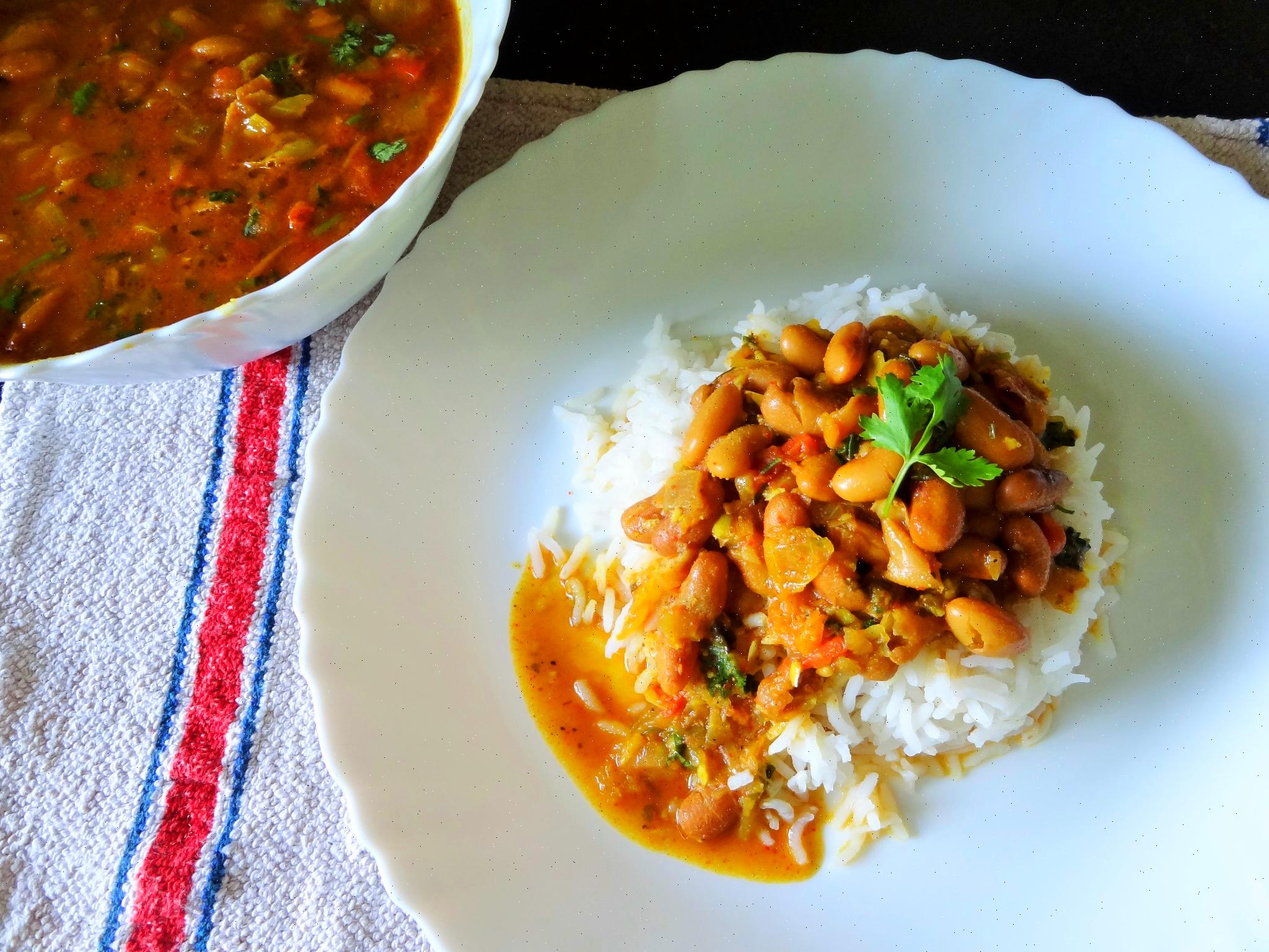rajma: (0, 0, 532, 341)
